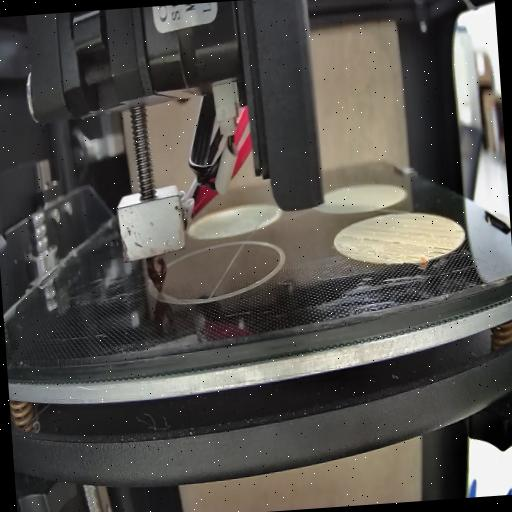under_extrusion: (343, 232, 401, 251), (422, 241, 453, 265), (401, 252, 422, 266), (451, 224, 465, 238)
